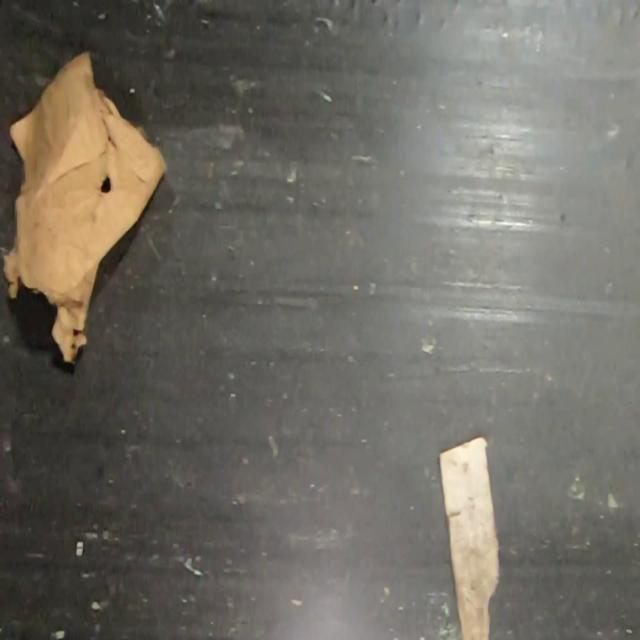cardboard: (1, 48, 169, 367), (437, 432, 502, 640)
